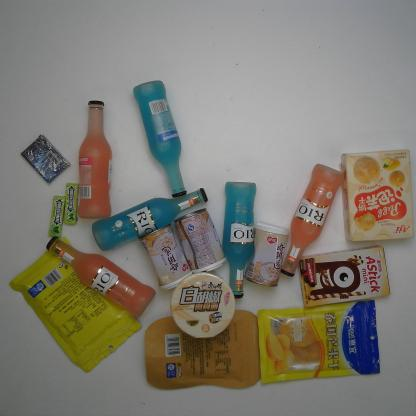Alcohol: (45, 234, 156, 319), (92, 186, 209, 252), (280, 162, 346, 278), (131, 78, 189, 198), (74, 99, 113, 221), (220, 180, 258, 300)
Canned Food: (172, 206, 228, 275), (140, 223, 194, 292), (243, 220, 290, 288)
Dessert: (338, 148, 414, 242), (297, 244, 391, 309)
Dried Fruit: (8, 235, 143, 374), (257, 298, 381, 385), (144, 310, 271, 390)
Gum: (20, 132, 72, 184), (48, 194, 67, 238), (62, 182, 80, 225)
Instant Noodles: (169, 272, 237, 340)
